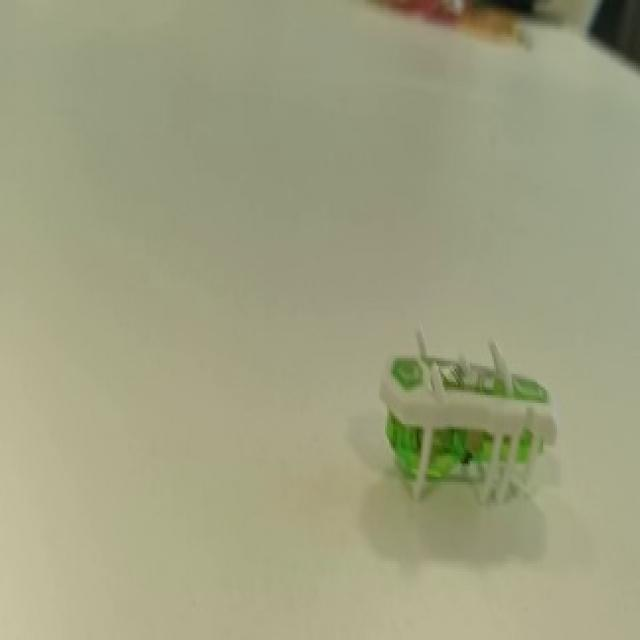4_NanoBug_Blanco: (322, 290, 581, 540)
